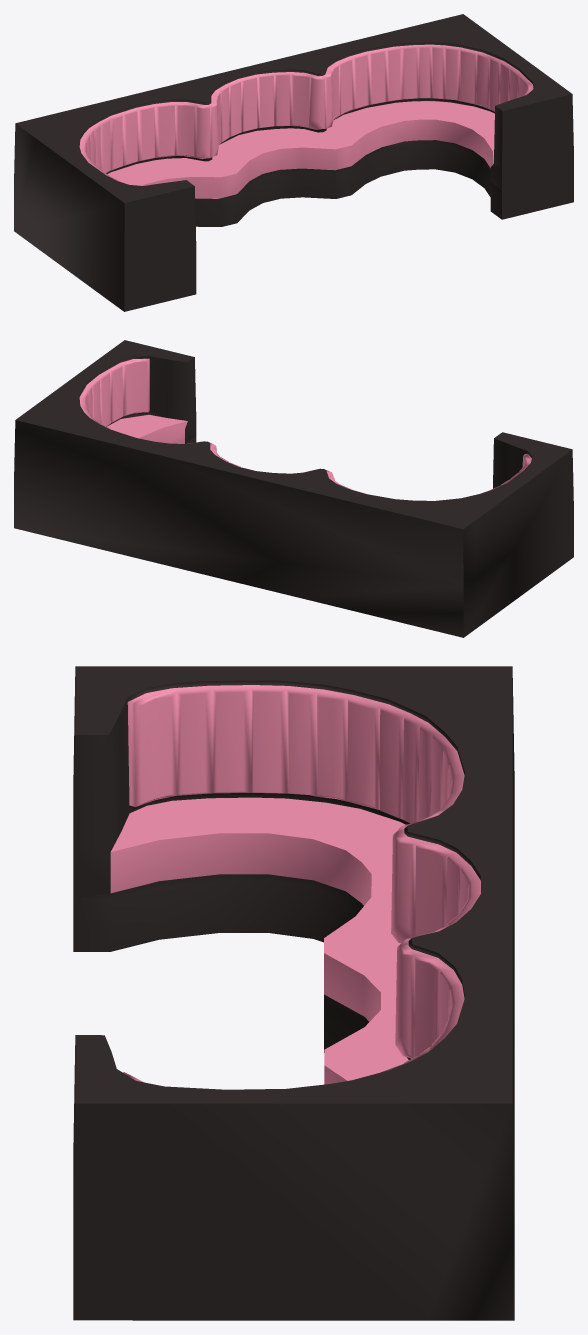
The picture shows the model from 3 angles, top to bottom: view 1: azimuth 30°, elevation 25°; view 2: azimuth 150°, elevation 25°; view 3: azimuth 270°, elevation 25°; orthographic projection. The views are drawn at different scales.
Visible parts, largest first — view 1: BarCouch.014; view 2: BarCouch.014; view 3: BarCouch.014.
Boxes of the visible parts, box(x1,y1,x2,y2) form: BarCouch.014: box(14, 14, 573, 311); BarCouch.014: box(14, 340, 573, 637); BarCouch.014: box(73, 666, 514, 1320).
Size of what is drawn, in the model's own units: 4.75 by 1.09 by 2.02.
Materials: 1 (1 with a texture image).
